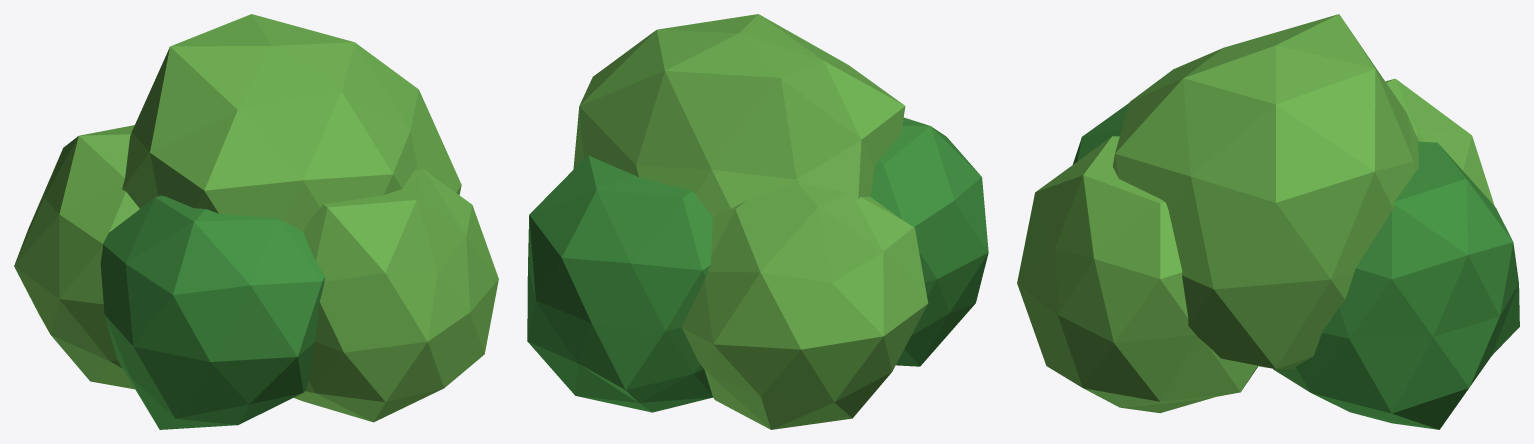
File: nat_bush_a_v01.glb
3 views of the same model, side by side, from view 1: azimuth 30°, elevation 25°; view 2: azimuth 150°, elevation 25°; view 3: azimuth 270°, elevation 25° (orthographic). The views are drawn at different scales.
Visible parts, largest first — view 1: bush; view 2: bush; view 3: bush.
Part boxes in pixels (x1,y1,x2,y2): bush: [14, 14, 498, 429]; bush: [527, 14, 988, 429]; bush: [1017, 14, 1519, 429].
Bounding box in the file's own units: 0.9001 × 0.8264 × 1.04.
